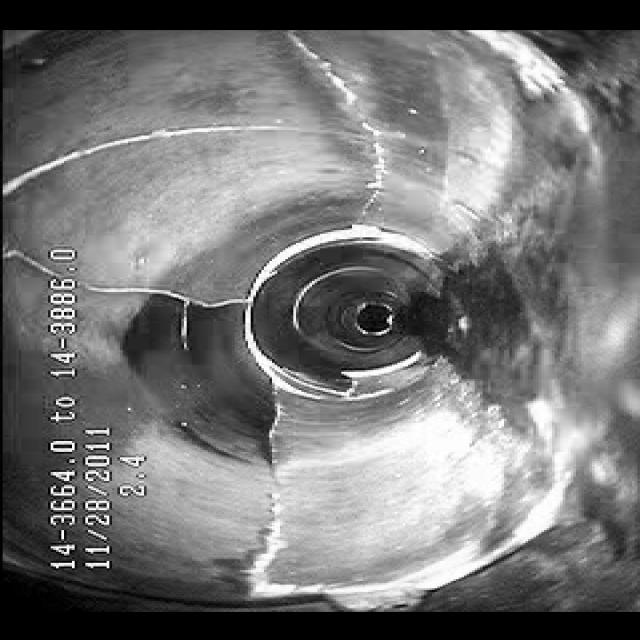Fracture: (288, 39, 404, 223), (223, 408, 329, 582)
